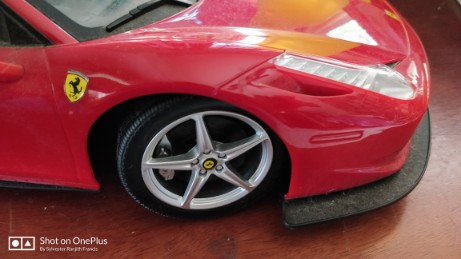unaligned_wheel: (112, 97, 289, 225)
